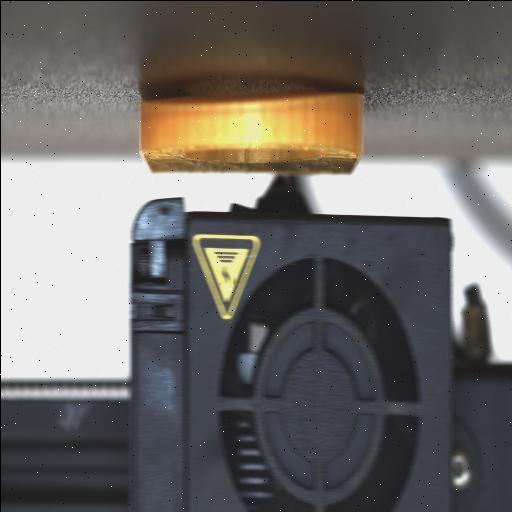warp: (145, 88, 361, 110)
